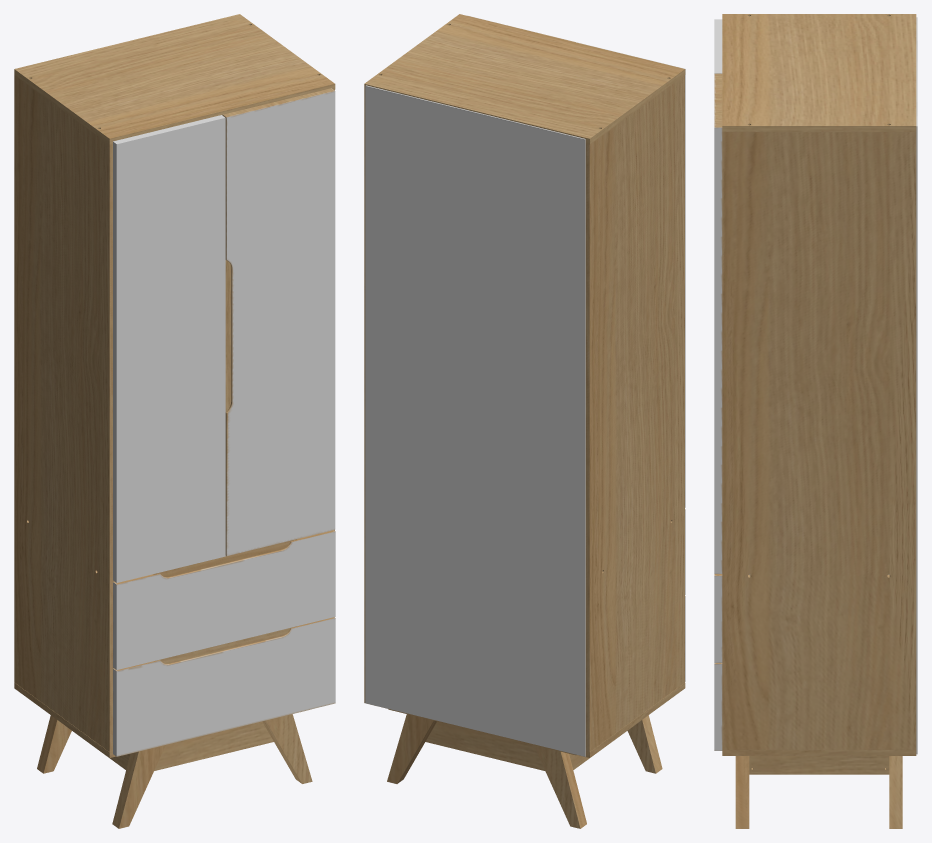
3 renders of one model, left to right at view 1: azimuth 30°, elevation 25°; view 2: azimuth 150°, elevation 25°; view 3: azimuth 270°, elevation 25°, orthographic.
Visible parts, largest first — view 1: Simetruc801742332-COSTADOSDE, A742332-PUERTASCSC, A742332-PUERTASXCO, A742332-TAPASXXXTA, A742332-FRENTESXCA001, A742332-FRENTESXCA, A742332-ZOCALOSXFR001, Pata 200, Pata 197, Pata 191, A742332-PISOSXXXPI; view 2: A742332-FONDOSXXMU, Simetruc801742332-COSTADOSDE, A742332-TAPASXXXTA, A742332-ZOCALOSXFR, Pata 191, Pata 194, A742332-COSTADOSDE, Pata 200, A742332-PISOSXXXPI; view 3: A742332-COSTADOSDE, A742332-TAPASXXXTA, A742332-PUERTASXCO, A742332-ZOCALOSXLA001, A742332-FONDOSXXMU, A742332-PISOSXXXPI, Pata 197, Pata 194, A742332-FRENTESXCA001, A742332-FRENTESXCA, A742332-PUERTASCSC.
Part boxes in pixels (left/top/right/bottom): Simetruc801742332-COSTADOSDE: left=14, top=75, right=114, bottom=751; A742332-PUERTASCSC: left=113, top=115, right=225, bottom=582; A742332-PUERTASXCO: left=222, top=88, right=335, bottom=556; A742332-TAPASXXXTA: left=14, top=14, right=335, bottom=144; A742332-FRENTESXCA001: left=113, top=530, right=335, bottom=669; A742332-FRENTESXCA: left=113, top=617, right=335, bottom=756; A742332-ZOCALOSXFR001: left=154, top=721, right=273, bottom=770; Pata 200: left=112, top=745, right=165, bottom=828; Pata 197: left=262, top=714, right=312, bottom=783; Pata 191: left=37, top=715, right=71, bottom=773; A742332-PISOSXXXPI: left=14, top=682, right=115, bottom=757; A742332-FONDOSXXMU: left=365, top=85, right=585, bottom=756; Simetruc801742332-COSTADOSDE: left=585, top=75, right=684, bottom=752; A742332-TAPASXXXTA: left=364, top=14, right=685, bottom=144; A742332-ZOCALOSXFR: left=425, top=721, right=544, bottom=770; Pata 191: left=533, top=745, right=586, bottom=828; Pata 194: left=387, top=714, right=436, bottom=783; A742332-COSTADOSDE: left=364, top=89, right=365, bottom=697; Pata 200: left=627, top=715, right=662, bottom=773; A742332-PISOSXXXPI: left=364, top=683, right=685, bottom=757; A742332-COSTADOSDE: left=722, top=132, right=916, bottom=749; A742332-TAPASXXXTA: left=722, top=14, right=916, bottom=131; A742332-PUERTASXCO: left=714, top=73, right=722, bottom=573; A742332-ZOCALOSXLA001: left=749, top=756, right=889, bottom=774; A742332-FONDOSXXMU: left=916, top=17, right=917, bottom=754; A742332-PISOSXXXPI: left=722, top=750, right=916, bottom=755; Pata 197: left=735, top=756, right=749, bottom=828; Pata 194: left=889, top=756, right=902, bottom=828; A742332-FRENTESXCA001: left=714, top=574, right=722, bottom=662; A742332-FRENTESXCA: left=714, top=663, right=722, bottom=750; A742332-PUERTASCSC: left=714, top=19, right=722, bottom=73.
Bounding box in the file's own units: 0.608 × 1.8 × 0.466.
1 material, 1 textured.
